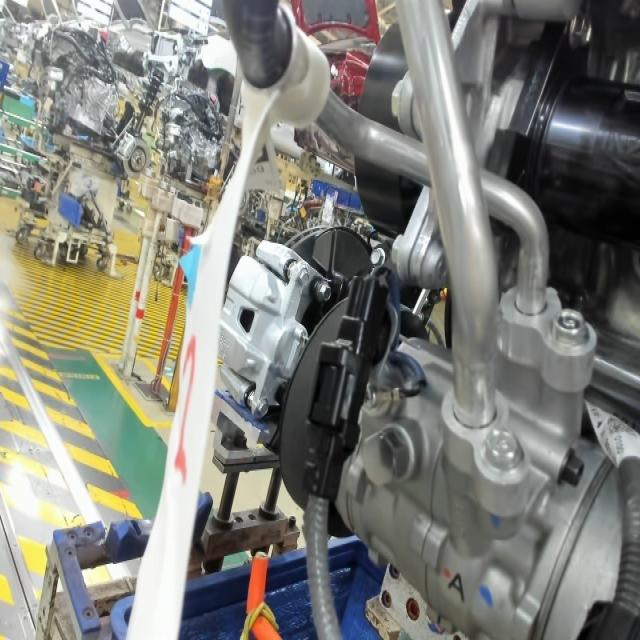Compressor-A: (442, 557, 469, 611)
